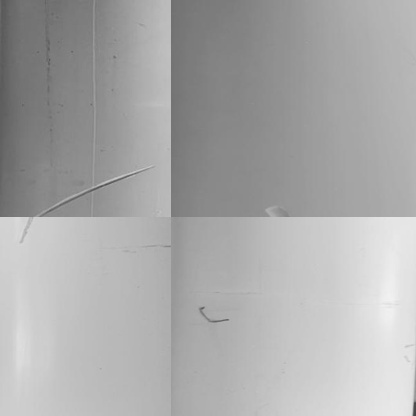fengxi: (198, 299, 233, 328)
sunshang: (27, 165, 162, 216), (264, 202, 290, 218)
